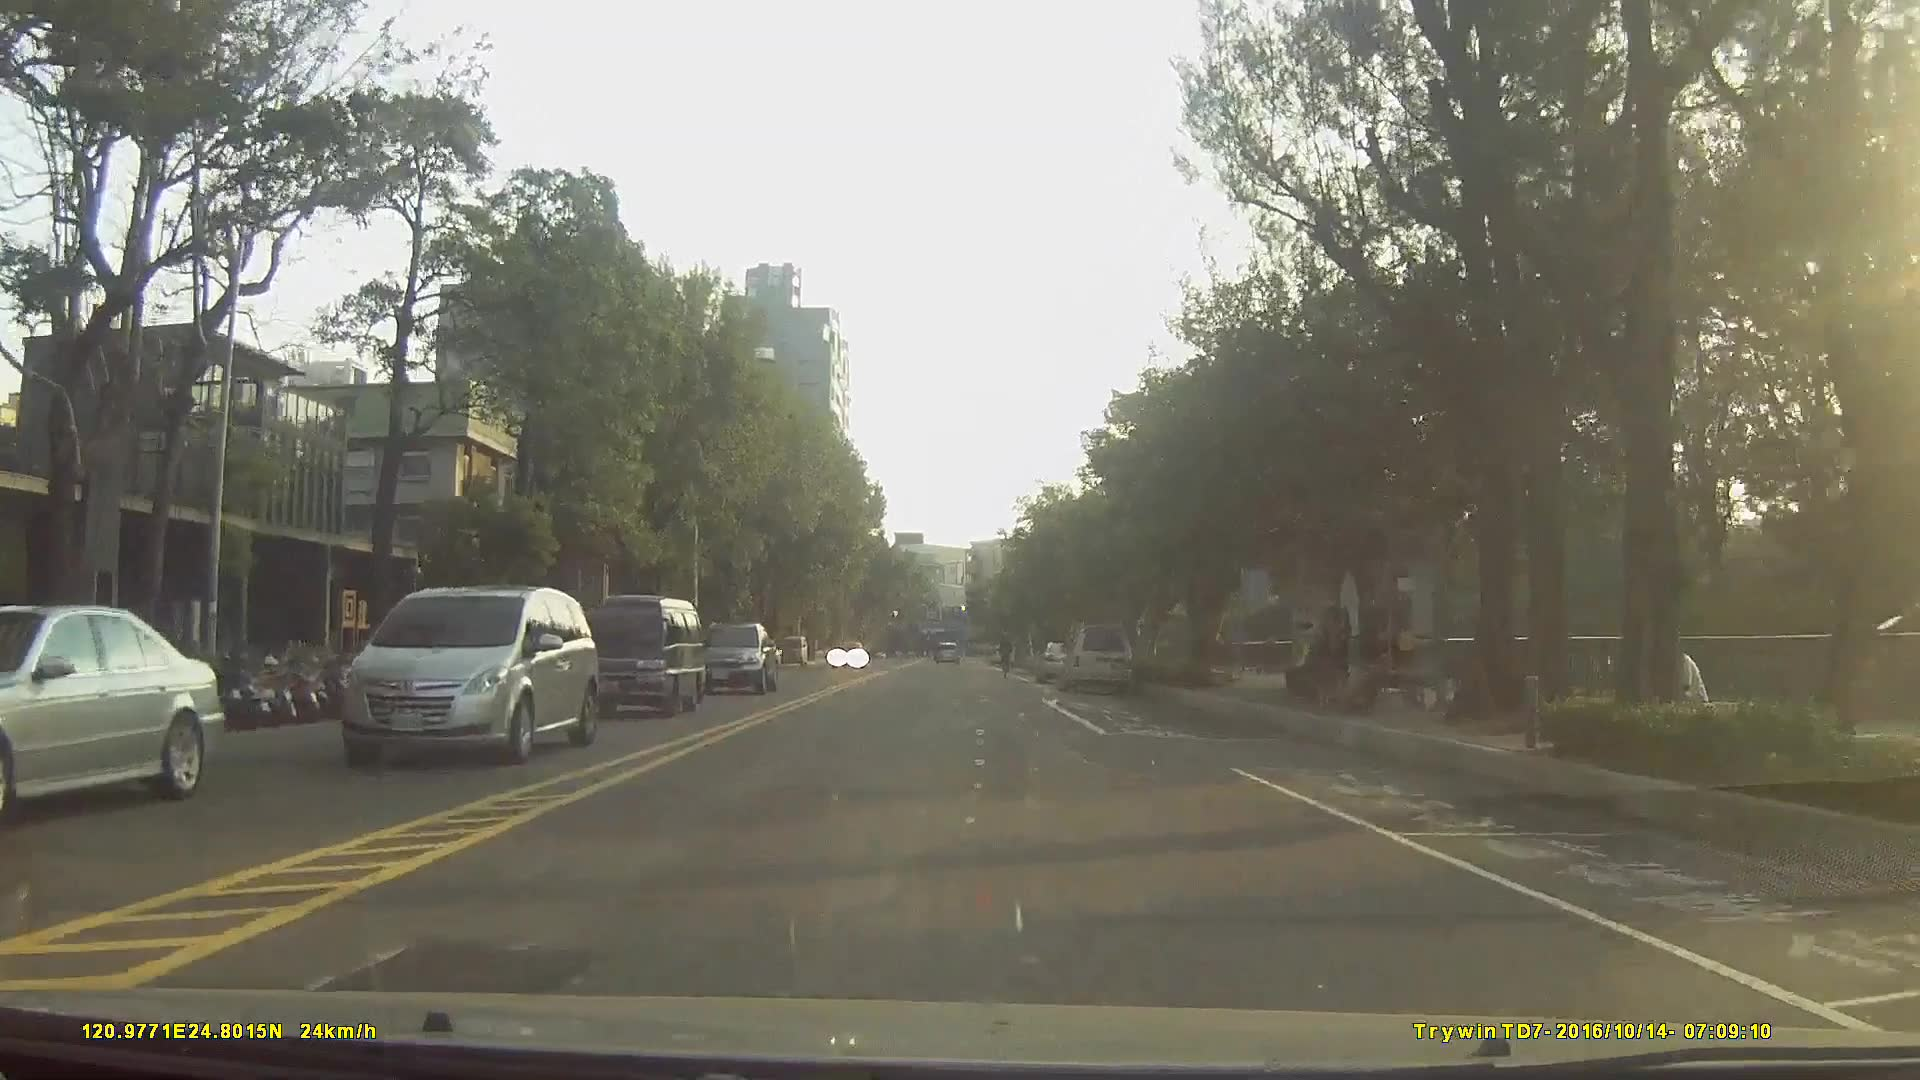pedestrian: (1283, 616, 1324, 704)
rider: (997, 631, 1017, 679)
vehicle: (335, 583, 598, 765), (0, 603, 224, 811), (572, 591, 709, 713), (691, 621, 780, 693), (1059, 620, 1134, 690), (1036, 637, 1085, 681), (828, 636, 866, 667), (775, 632, 809, 666), (934, 640, 962, 666)
